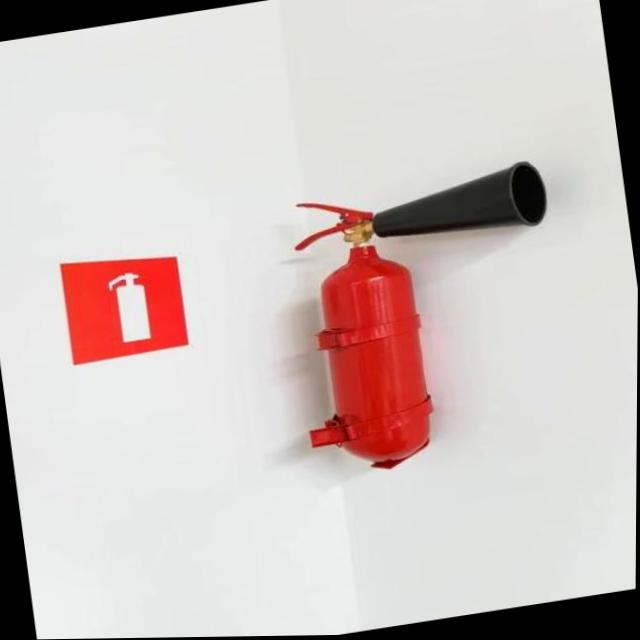FireExtinguisher: (273, 153, 588, 481)
